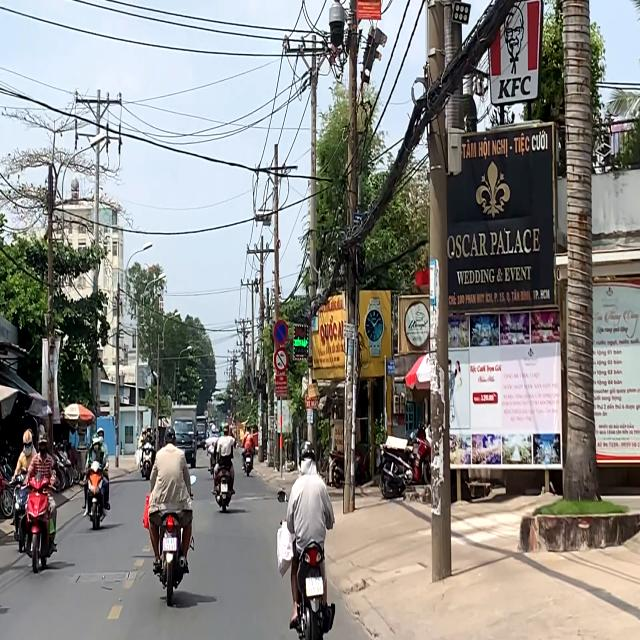P.131a: (274, 319, 288, 346)
